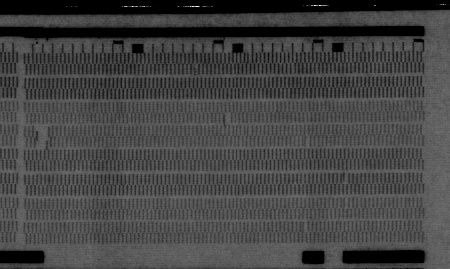Broken hole: (33, 127, 50, 151), (222, 110, 234, 125)
Oblique printing: (189, 63, 201, 79), (299, 219, 311, 234), (340, 173, 352, 186), (301, 136, 312, 148)
